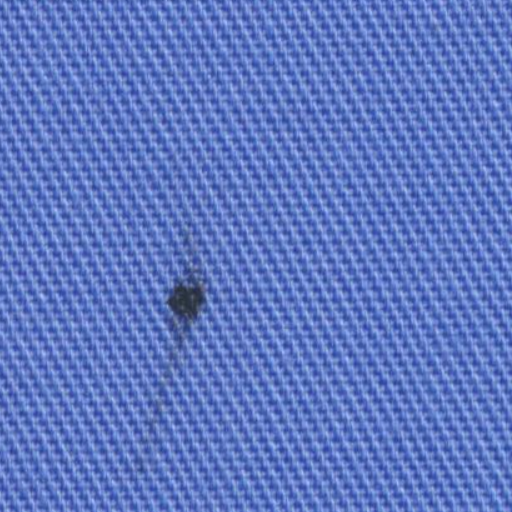WuZi: (117, 211, 230, 473)
